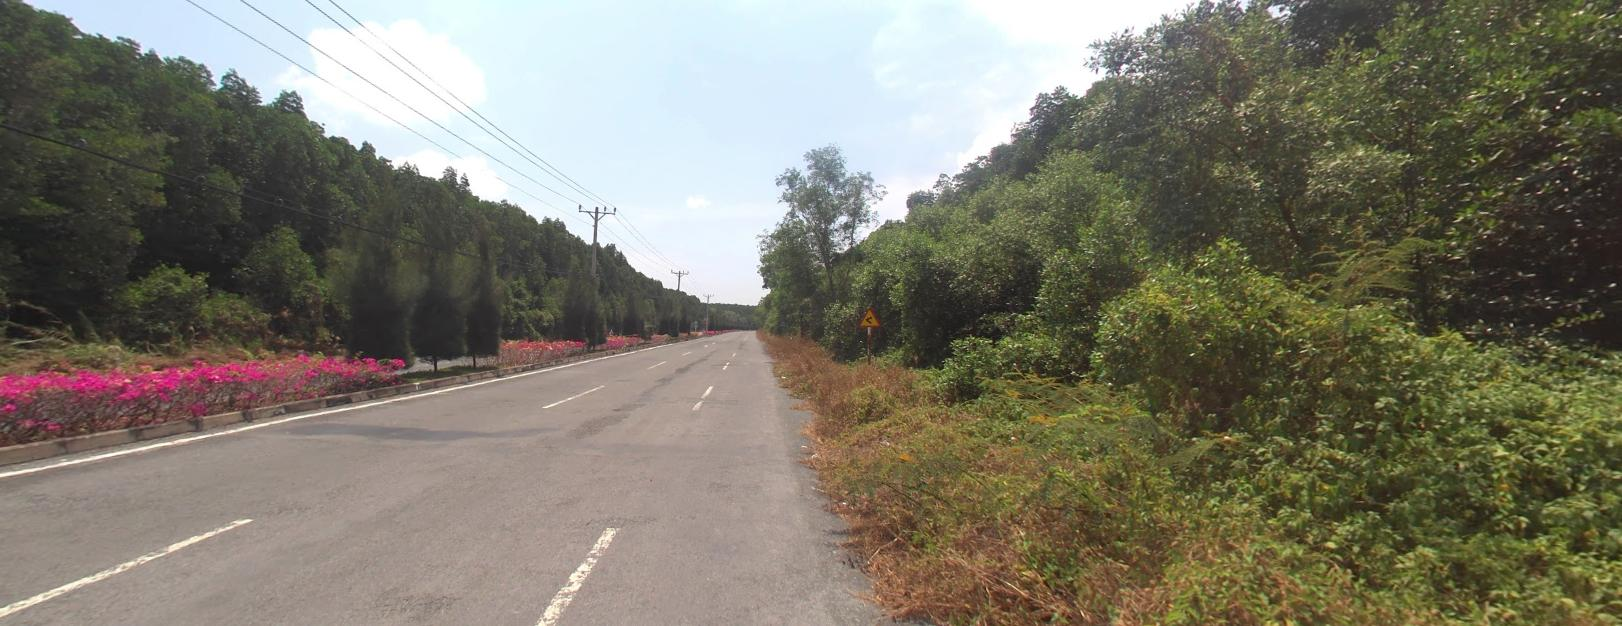Nguy hiem: (858, 305, 880, 326)
